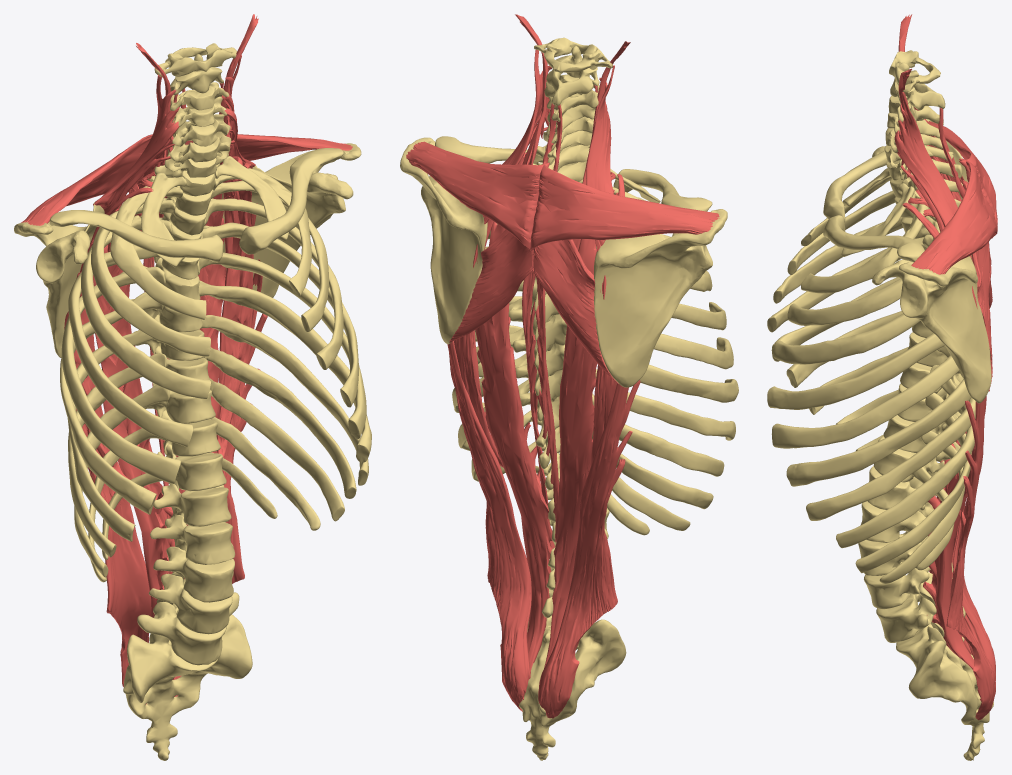
3 views of the same model, side by side, from view 1: azimuth 30°, elevation 25°; view 2: azimuth 150°, elevation 25°; view 3: azimuth 270°, elevation 25° (orthographic). The views are drawn at different scales.
Parts seen in each view (by area): view 1: spine-trunk:sacrum:isa:FJ3393, spine-trunk:erector-spinae:isa:FJ1527, spine-trunk:erector-spinae:isa:FJ1535, shoulder:scapula:isa:FJ3384, spine-trunk:sixth-rib:isa:FJ3344, shoulder:scapula:isa:FJ3279, spine-trunk:fourth-rib:isa:FJ3340, spine-trunk:fifth-rib:isa:FJ3342, spine-trunk:third-rib:isa:FJ3338, spine-trunk:ninth-rib:isa:FJ3236, spine-trunk:seventh-rib:isa:FJ3234, spine-trunk:seventh-rib:isa:FJ3346 (+49 smaller); view 2: shoulder:scapula:isa:FJ3384, spine-trunk:erector-spinae:isa:FJ1527, spine-trunk:erector-spinae:isa:FJ1535M, spine-trunk:erector-spinae:isa:FJ1527M, spine-trunk:erector-spinae:isa:FJ1535, shoulder:trapezius:isa:FJ1554, shoulder:scapula:isa:FJ3279, shoulder:trapezius:isa:FJ1554M, spine-trunk:sacrum:isa:FJ3393, shoulder:rhomboid-major:isa:FJ1536, shoulder:rhomboid-major:isa:FJ1536M, spine-trunk:erector-spinae:isa:FJ1544 (+24 smaller); view 3: shoulder:scapula:isa:FJ3279, spine-trunk:sacrum:isa:FJ3393, spine-trunk:erector-spinae:isa:FJ1527M, spine-trunk:sixth-rib:isa:FJ3233, shoulder:trapezius:isa:FJ1554M, spine-trunk:seventh-rib:isa:FJ3234, spine-trunk:fifth-rib:isa:FJ3232, spine-trunk:eighth-rib:isa:FJ3235, spine-trunk:ninth-rib:isa:FJ3236, spine-trunk:fourth-rib:isa:FJ3231, spine-trunk:erector-spinae:isa:FJ1535M, shoulder:levator-scapulae:isa:FJ1532M (+40 smaller).
Part boxes in pixels (left/top/right/bottom): spine-trunk:sacrum:isa:FJ3393: left=123, top=614, right=252, bottom=760; spine-trunk:erector-spinae:isa:FJ1527: left=64, top=311, right=151, bottom=704; spine-trunk:erector-spinae:isa:FJ1535: left=95, top=171, right=173, bottom=617; shoulder:scapula:isa:FJ3384: left=14, top=202, right=104, bottom=357; spine-trunk:sixth-rib:isa:FJ3344: left=61, top=266, right=180, bottom=483; shoulder:scapula:isa:FJ3279: left=221, top=143, right=361, bottom=297; spine-trunk:fourth-rib:isa:FJ3340: left=81, top=215, right=211, bottom=398; spine-trunk:fifth-rib:isa:FJ3342: left=68, top=244, right=193, bottom=446; spine-trunk:third-rib:isa:FJ3338: left=91, top=200, right=210, bottom=356; spine-trunk:ninth-rib:isa:FJ3236: left=203, top=347, right=356, bottom=498; spine-trunk:seventh-rib:isa:FJ3234: left=198, top=280, right=371, bottom=462; spine-trunk:seventh-rib:isa:FJ3346: left=60, top=292, right=163, bottom=514; shoulder:scapula:isa:FJ3384: left=594, top=209, right=727, bottom=387; spine-trunk:erector-spinae:isa:FJ1527: left=538, top=380, right=640, bottom=718; spine-trunk:erector-spinae:isa:FJ1535M: left=475, top=152, right=552, bottom=681; spine-trunk:erector-spinae:isa:FJ1527M: left=447, top=341, right=531, bottom=711; spine-trunk:erector-spinae:isa:FJ1535: left=544, top=172, right=615, bottom=668; shoulder:trapezius:isa:FJ1554: left=530, top=161, right=719, bottom=250; shoulder:scapula:isa:FJ3279: left=400, top=137, right=487, bottom=344; shoulder:trapezius:isa:FJ1554M: left=406, top=141, right=549, bottom=250; spine-trunk:sacrum:isa:FJ3393: left=519, top=615, right=626, bottom=760; shoulder:rhomboid-major:isa:FJ1536: left=533, top=239, right=618, bottom=383; shoulder:rhomboid-major:isa:FJ1536M: left=449, top=229, right=533, bottom=342; spine-trunk:erector-spinae:isa:FJ1544: left=535, top=278, right=559, bottom=506; shoulder:scapula:isa:FJ3279: left=872, top=256, right=991, bottom=403; spine-trunk:sacrum:isa:FJ3393: left=896, top=623, right=993, bottom=760; spine-trunk:erector-spinae:isa:FJ1527M: left=946, top=400, right=995, bottom=720; spine-trunk:sixth-rib:isa:FJ3233: left=771, top=355, right=959, bottom=448; shoulder:trapezius:isa:FJ1554M: left=911, top=158, right=997, bottom=274; spine-trunk:seventh-rib:isa:FJ3234: left=786, top=379, right=971, bottom=486; spine-trunk:fifth-rib:isa:FJ3232: left=767, top=333, right=944, bottom=409; spine-trunk:eighth-rib:isa:FJ3235: left=806, top=346, right=975, bottom=520; spine-trunk:ninth-rib:isa:FJ3236: left=836, top=365, right=974, bottom=548; spine-trunk:fourth-rib:isa:FJ3231: left=773, top=234, right=933, bottom=364; spine-trunk:erector-spinae:isa:FJ1535M: left=908, top=189, right=974, bottom=669; shoulder:levator-scapulae:isa:FJ1532M: left=894, top=92, right=972, bottom=259.
Size of the model in its own units: 0.3329 by 0.7171 by 0.2084.
